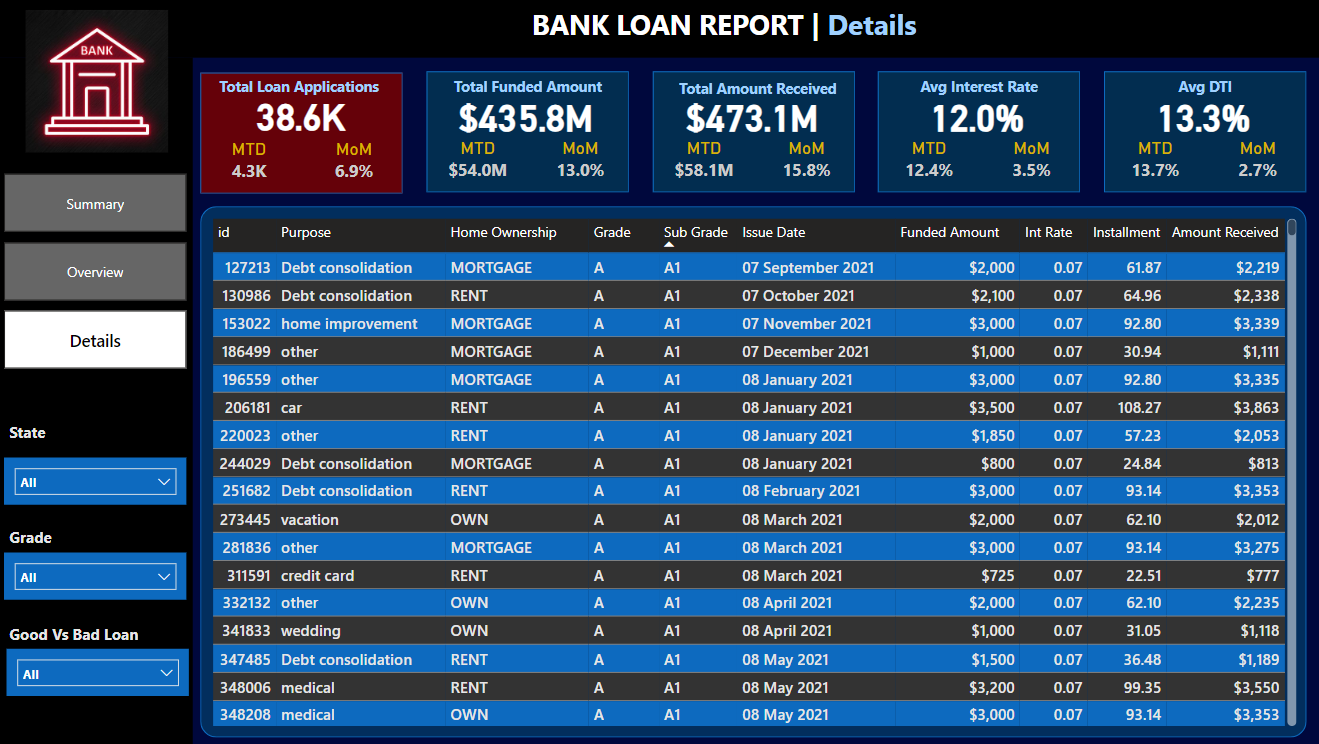

The page's visual inventory and layout, read from the dashboard file:
{"tool":"powerbi","page":{"name":"Details","canvas":[1280,720],"ordinal":2},"visuals":[{"type":"shape","box":[0,0,1280.5,55.7],"z":0},{"type":"image","box":[12.1,4.8,175.2,147.6],"z":0,"group":"g6"},{"type":"shape","box":[417.1,68.8,195.4,117],"z":0,"group":"g2"},{"type":"shape","box":[635.2,68.8,195.4,117],"z":0,"group":"g3"},{"type":"shape","box":[853.3,68.8,195.4,117],"z":0,"group":"g4"},{"type":"shape","box":[1071.3,68.8,195.4,117],"z":0,"group":"g5"},{"type":"shape","box":[199.1,70.4,195.4,117],"z":0,"group":"g1"},{"type":"slicer","fields":{"Values":["bank_loan_data.Good vs Bad Loan"]},"box":[11.9,626.4,176.4,45.5],"z":0,"group":"g8"},{"type":"card","fields":{"Values":["Calculation.Total Loan Applications"]},"box":[235.3,87.3,121.9,47.1],"z":1000,"group":"g1"},{"type":"card","fields":{"Values":["Calculation.Total Funded Amount"]},"box":[443,89.9,141.2,42.2],"z":1000,"group":"g2"},{"type":"card","fields":{"Values":["Calculation.Total Amount Received"]},"box":[661.1,89.9,141.2,42.2],"z":1000,"group":"g3"},{"type":"card","fields":{"Values":["Calculation.Average Interest Rate"]},"box":[879.2,89.9,141.2,42.2],"z":1000,"group":"g4"},{"type":"card","fields":{"Values":["Calculation.Avg DTI"]},"box":[1097.2,89.9,141.2,42.2],"z":1000,"group":"g5"},{"type":"pageNavigator","box":[9.6,167.9,176.1,189.4],"z":1000,"group":"g6"},{"type":"shape","box":[199.1,199.1,1067.7,512.7],"z":1000},{"type":"textbox","box":[9.7,597.4,147.4,32],"z":1000,"group":"g8"},{"type":"shape","box":[0,55.5,191.8,664.7],"z":2000},{"type":"textbox","box":[206.6,68.8,176.1,29],"z":2000,"group":"g1"},{"type":"textbox","box":[432.8,68.8,164.1,32.6],"z":2000,"group":"g2"},{"type":"textbox","box":[869,68.8,164.1,32.6],"z":2000,"group":"g4"},{"type":"textbox","box":[1087,68.8,164.1,32.6],"z":2000,"group":"g5"},{"type":"textbox","box":[646.6,70.9,181,29],"z":2000,"group":"g3"},{"type":"textbox","box":[514.4,0,447.6,55.7],"z":3000},{"type":"card","title":"MTD","fields":{"Values":["Calculation.MTD Total Funded Amount"]},"box":[430.9,132.1,72.4,47.1],"z":3000,"group":"g2"},{"type":"card","title":"MTD","fields":{"Values":["Calculation.MTD Total Amount Received"]},"box":[649,132.1,72.4,47.1],"z":3000,"group":"g3"},{"type":"card","title":"MTD","fields":{"Values":["Calculation.MTD Avg Int Rate"]},"box":[867.1,132.1,72.4,47.1],"z":3000,"group":"g4"},{"type":"card","title":"MTD","fields":{"Values":["Calculation.MTD Avg DTI"]},"box":[1085.1,132.1,72.4,47.1],"z":3000,"group":"g5"},{"type":"card","title":"MTD","fields":{"Values":["Calculation.MTD Loan Applications"]},"box":[214.8,134.4,62.7,47.1],"z":3000,"group":"g1"},{"type":"group","id":"g1","title":"Group 1","box":[199.1,68.8,195.4,118.2],"z":4000},{"type":"card","title":"MoM","fields":{"Values":["Calculation.MoM Total Funded Amount"]},"box":[534.1,132.7,62.7,47.1],"z":4000,"group":"g2"},{"type":"card","title":"MoM","fields":{"Values":["Calculation.MoM Total Amount Received"]},"box":[752.2,132.7,62.7,47.1],"z":4000,"group":"g3"},{"type":"card","title":"MoM","fields":{"Values":["Calculation.MoM Avg Int rate"]},"box":[970.3,132.7,62.7,47.1],"z":4000,"group":"g4"},{"type":"card","title":"MoM","fields":{"Values":["Calculation.MoM Avg DTI"]},"box":[1188.3,132.7,62.7,47.1],"z":4000,"group":"g5"},{"type":"card","title":"MoM","fields":{"Values":["Calculation.MoM Loan Applications"]},"box":[316.1,134.4,62.7,47.1],"z":4000,"group":"g1"},{"type":"group","id":"g2","title":"Group 1","box":[417.1,68.8,195.4,117],"z":5000},{"type":"group","id":"g3","title":"Group 1","box":[635.2,68.8,195.4,117],"z":6000},{"type":"group","id":"g4","title":"Group 1","box":[853.3,68.8,195.4,117],"z":7000},{"type":"group","id":"g5","title":"Group 1","box":[1071.3,68.8,195.4,117],"z":8000},{"type":"tableEx","fields":{"Values":["bank_loan_data.id","bank_loan_data.purpose","bank_loan_data.home_ownership","bank_loan_data.grade","bank_loan_data.sub_grade","bank_loan_data.issue_date","Calculation.Total Funded Amount","bank_loan_data.int_rate","Sum(bank_loan_data.installment)","Calculation.Total Amount Received"]},"box":[205.1,206.3,1056.8,499.5],"z":9000},{"type":"slicer","fields":{"Values":["bank_loan_data.address_state"]},"box":[10.1,441,176.4,45.5],"z":9000,"group":"g7"},{"type":"group","id":"g6","title":"Group 3","box":[9.6,4.8,177.6,352.5],"z":10000},{"type":"textbox","box":[10.1,401.7,53.1,36.2],"z":10000,"group":"g7"},{"type":"group","id":"g7","title":"Group 4","box":[9.7,401.7,178.6,270.2],"z":11000},{"type":"slicer","fields":{"Values":["bank_loan_data.grade"]},"box":[10.1,533.2,176.4,45.5],"z":11000,"group":"g7"},{"type":"textbox","box":[10.1,502.5,68.9,36.9],"z":12000,"group":"g7"},{"type":"group","id":"g8","title":"Group 2","box":[9.7,597.4,178.6,74.5],"z":13000,"group":"g7"}]}

Visuals, with their boxes in screenshot pixels (x1, y1, x2, y2), scaled from the page's 1280x720 canvas onto the 1319x744 screenshot:
shape: (x1=0, y1=0, x2=1318, y2=58)
image: (x1=12, y1=5, x2=193, y2=157)
shape: (x1=430, y1=71, x2=631, y2=192)
shape: (x1=655, y1=71, x2=856, y2=192)
shape: (x1=879, y1=71, x2=1081, y2=192)
shape: (x1=1104, y1=71, x2=1305, y2=192)
shape: (x1=205, y1=73, x2=407, y2=194)
slicer - bank_loan_data.Good vs Bad Loan: (x1=12, y1=647, x2=194, y2=694)
card - Calculation.Total Loan Applications: (x1=242, y1=90, x2=368, y2=139)
card - Calculation.Total Funded Amount: (x1=456, y1=93, x2=602, y2=137)
card - Calculation.Total Amount Received: (x1=681, y1=93, x2=827, y2=137)
card - Calculation.Average Interest Rate: (x1=906, y1=93, x2=1051, y2=137)
card - Calculation.Avg DTI: (x1=1131, y1=93, x2=1276, y2=137)
pageNavigator: (x1=10, y1=173, x2=191, y2=369)
shape: (x1=205, y1=206, x2=1305, y2=736)
textbox: (x1=10, y1=617, x2=162, y2=650)
shape: (x1=0, y1=57, x2=198, y2=743)
textbox: (x1=213, y1=71, x2=394, y2=101)
textbox: (x1=446, y1=71, x2=615, y2=105)
textbox: (x1=895, y1=71, x2=1065, y2=105)
textbox: (x1=1120, y1=71, x2=1289, y2=105)
textbox: (x1=666, y1=73, x2=853, y2=103)
textbox: (x1=530, y1=0, x2=991, y2=58)
"MTD" card: (x1=444, y1=137, x2=519, y2=185)
"MTD" card: (x1=669, y1=137, x2=743, y2=185)
"MTD" card: (x1=894, y1=137, x2=968, y2=185)
"MTD" card: (x1=1118, y1=137, x2=1193, y2=185)
"MTD" card: (x1=221, y1=139, x2=286, y2=188)
"Group 1" group: (x1=205, y1=71, x2=407, y2=193)
"MoM" card: (x1=550, y1=137, x2=615, y2=186)
"MoM" card: (x1=775, y1=137, x2=840, y2=186)
"MoM" card: (x1=1000, y1=137, x2=1064, y2=186)
"MoM" card: (x1=1225, y1=137, x2=1289, y2=186)
"MoM" card: (x1=326, y1=139, x2=390, y2=188)
"Group 1" group: (x1=430, y1=71, x2=631, y2=192)
"Group 1" group: (x1=655, y1=71, x2=856, y2=192)
"Group 1" group: (x1=879, y1=71, x2=1081, y2=192)
"Group 1" group: (x1=1104, y1=71, x2=1305, y2=192)
tableEx - bank_loan_data.id x bank_loan_data.purpose: (x1=211, y1=213, x2=1300, y2=729)
slicer - bank_loan_data.address_state: (x1=10, y1=456, x2=192, y2=503)
"Group 3" group: (x1=10, y1=5, x2=193, y2=369)
textbox: (x1=10, y1=415, x2=65, y2=452)
"Group 4" group: (x1=10, y1=415, x2=194, y2=694)
slicer - bank_loan_data.grade: (x1=10, y1=551, x2=192, y2=598)
textbox: (x1=10, y1=519, x2=81, y2=557)
"Group 2" group: (x1=10, y1=617, x2=194, y2=694)
